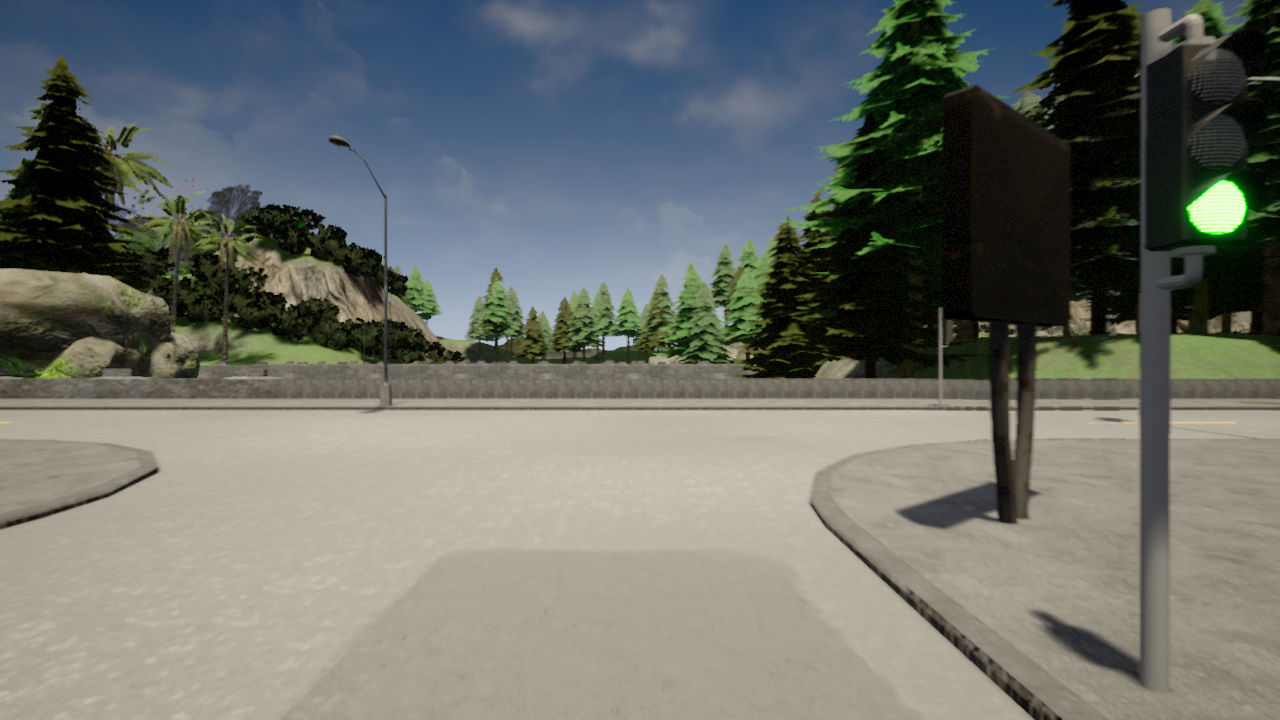green: (1150, 35, 1255, 260)
